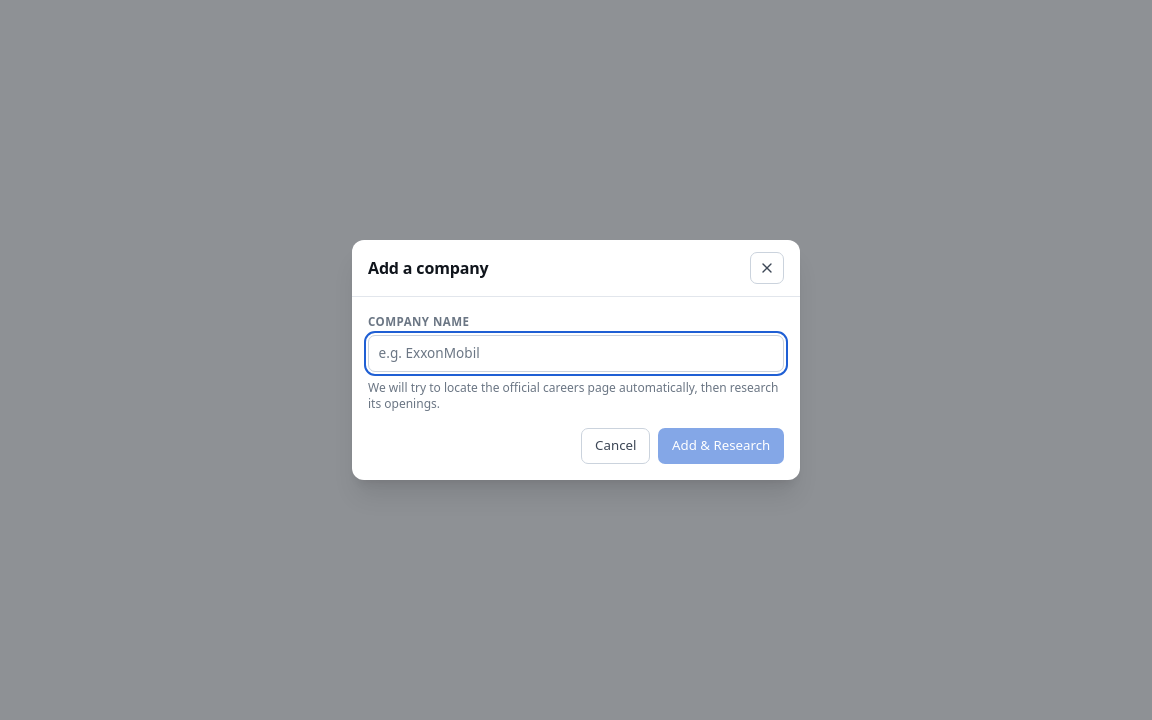
Test: Add company flow › keeps the dialog open and shows the server error when creation fails
Type "Bad Co" into the field labelled "Company name" at [576, 354], box 368,335 -> 784,372
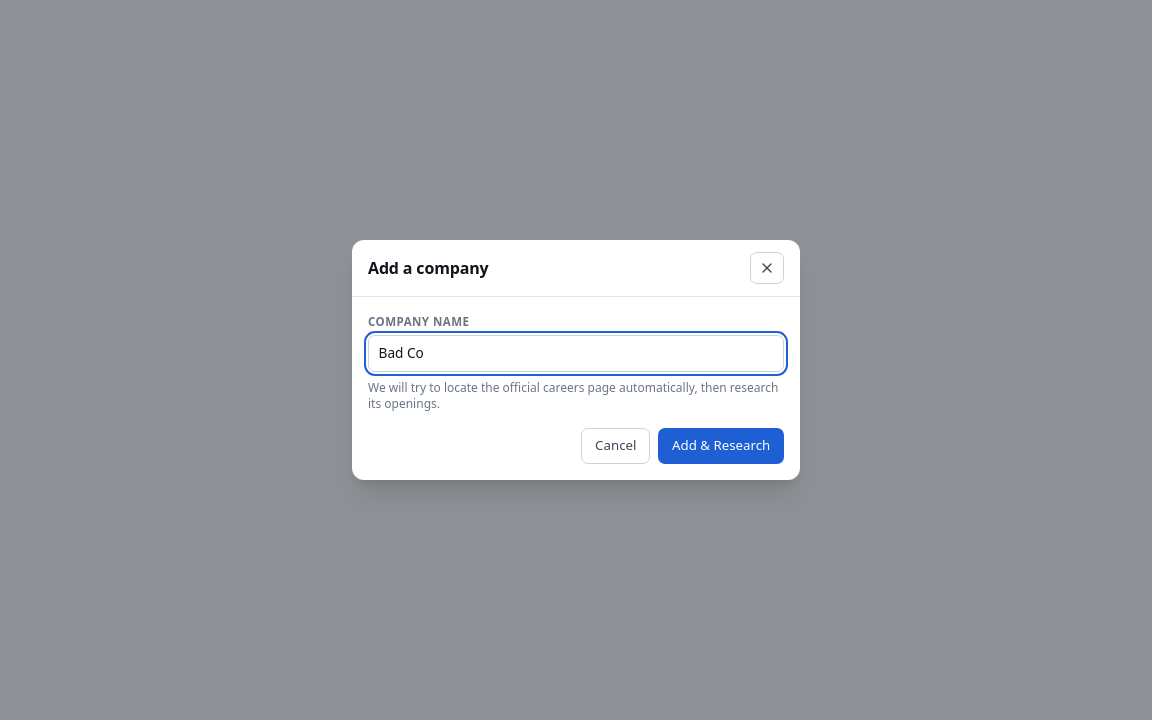
Click the button "Add & Research" at [721, 446], box 658,428 -> 784,464
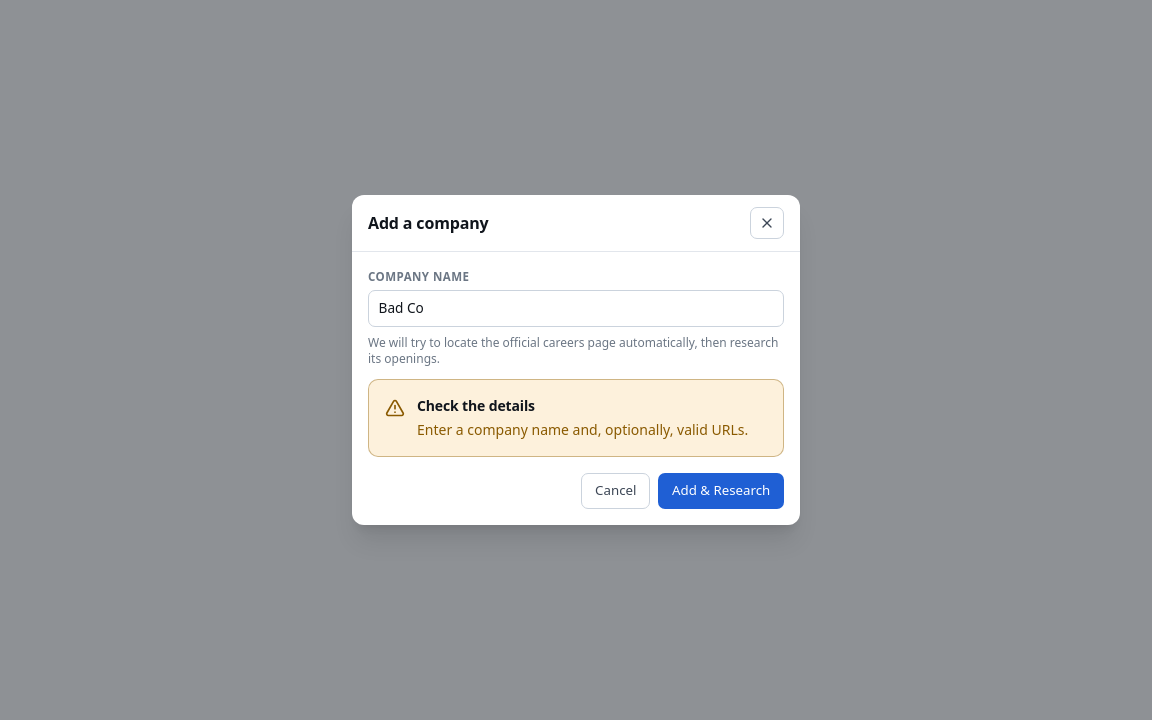
Expected: the dialog is shown, 352,195 -> 800,525
Now the message shows "Enter a company name", box 417,420 -> 748,439
